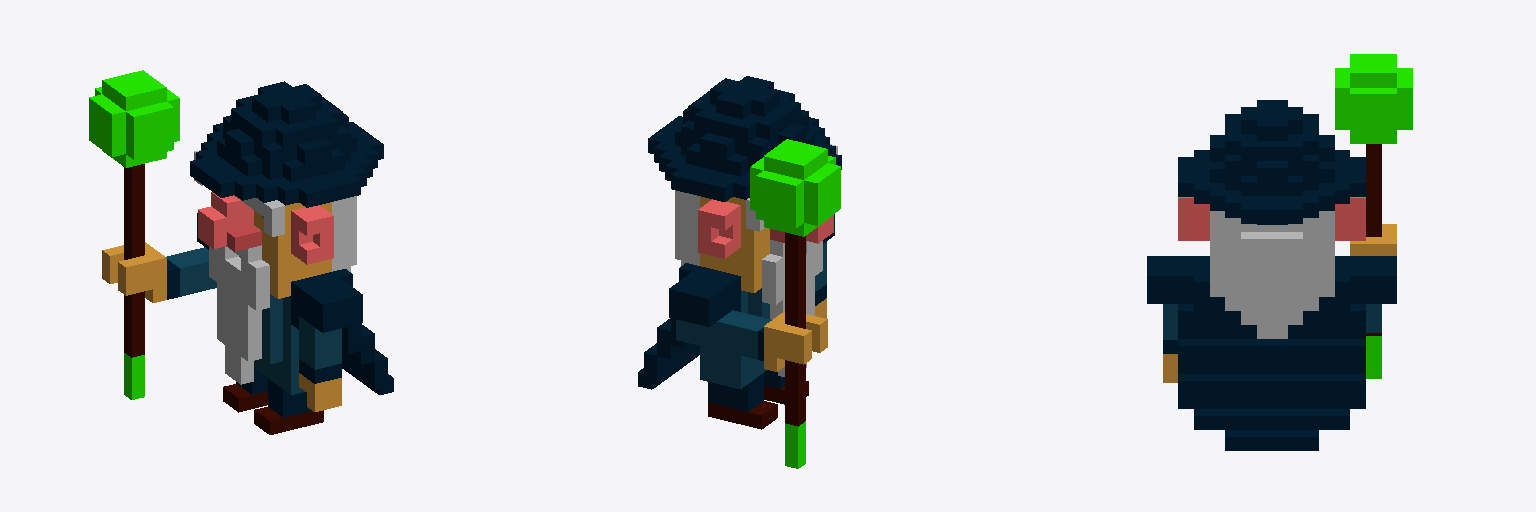
3 renders of one model, left to right at view 1: azimuth 30°, elevation 25°; view 2: azimuth 150°, elevation 25°; view 3: azimuth 270°, elevation 25°, orthographic.
Visible parts, largest first — view 1: object 1; view 2: object 1; view 3: object 1.
Boxes of the visible parts, x1=… form: object 1: x1=89, y1=70, x2=393, y2=434; object 1: x1=638, y1=76, x2=841, y2=468; object 1: x1=1147, y1=54, x2=1412, y2=450.
Size of the model in its own units: 1.6 by 2.2 by 1.7.
Materials: 1 (1 with a texture image).